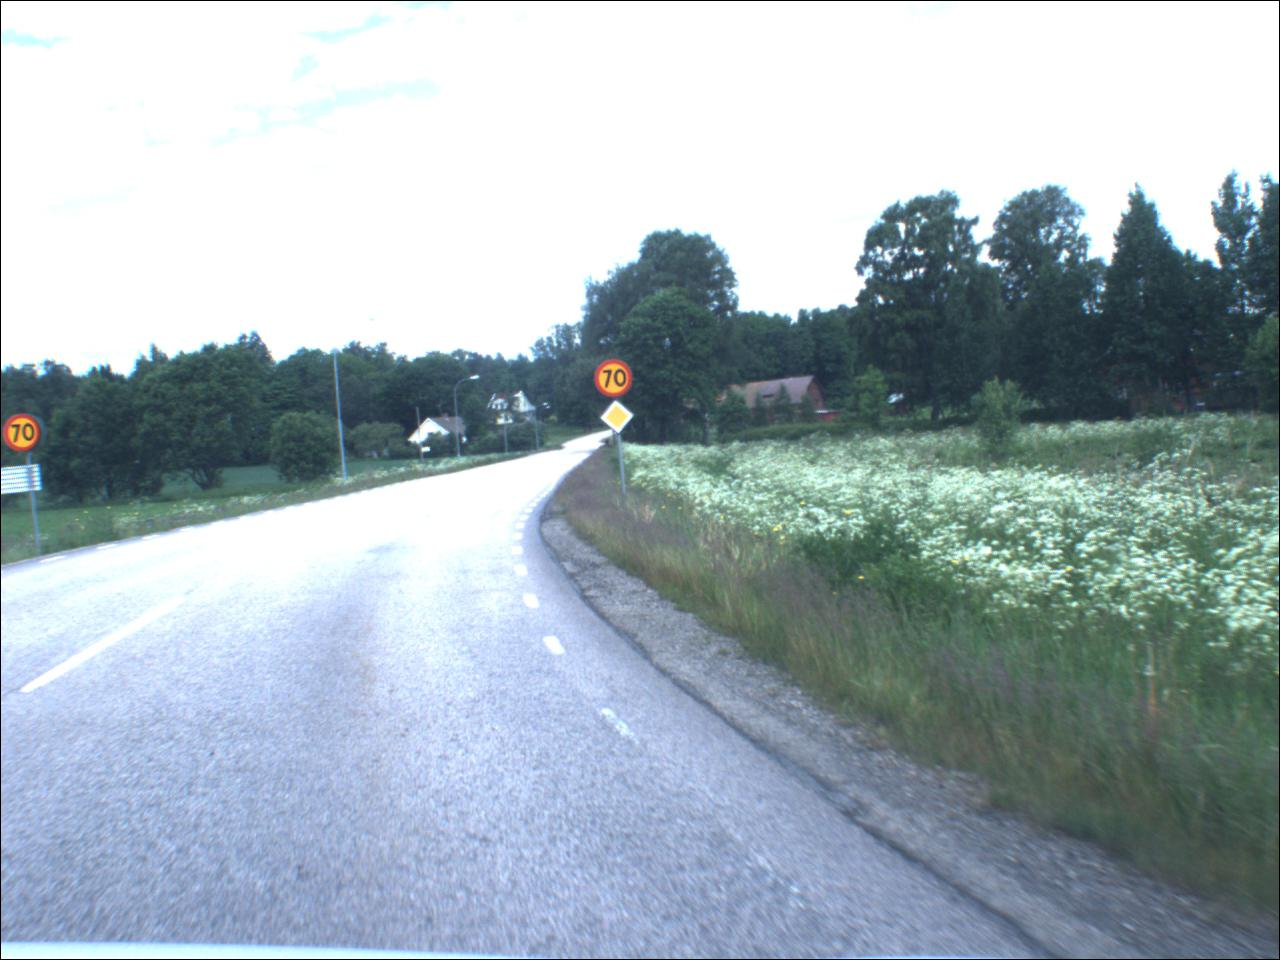70_SIGN: (595, 361, 637, 399), (6, 416, 46, 453)
PRIORITY_ROAD: (601, 401, 637, 436)
